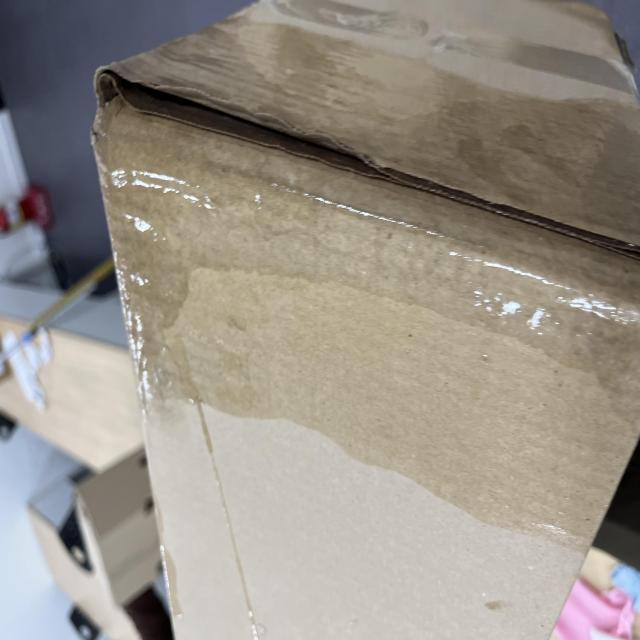wet: (128, 185, 470, 640)
